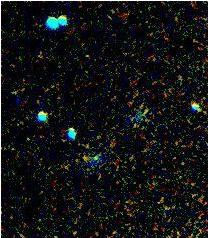star: (73, 146, 103, 176)
